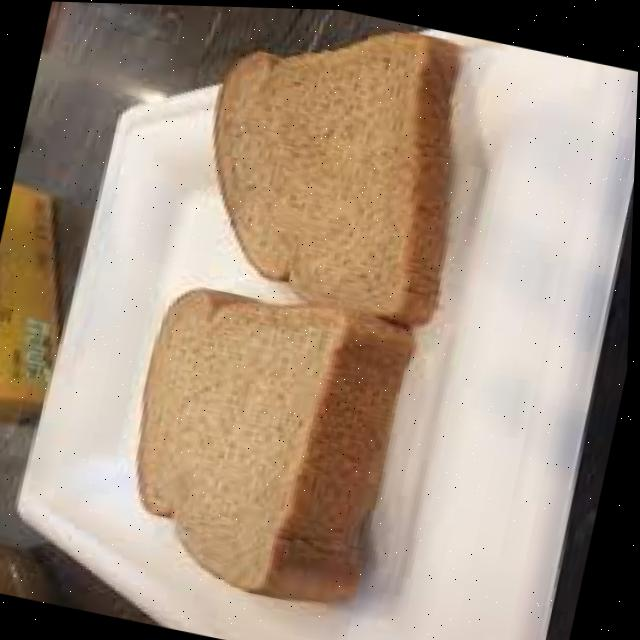Bread: (144, 289, 412, 600), (216, 28, 458, 320)
